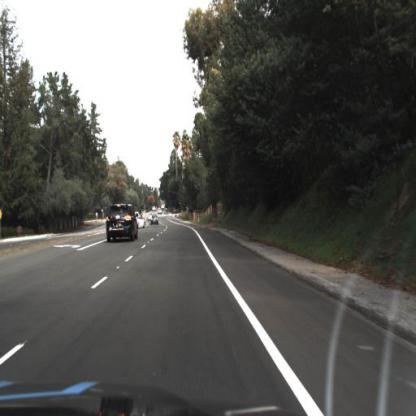car: (108, 201, 139, 246), (150, 212, 161, 230)
